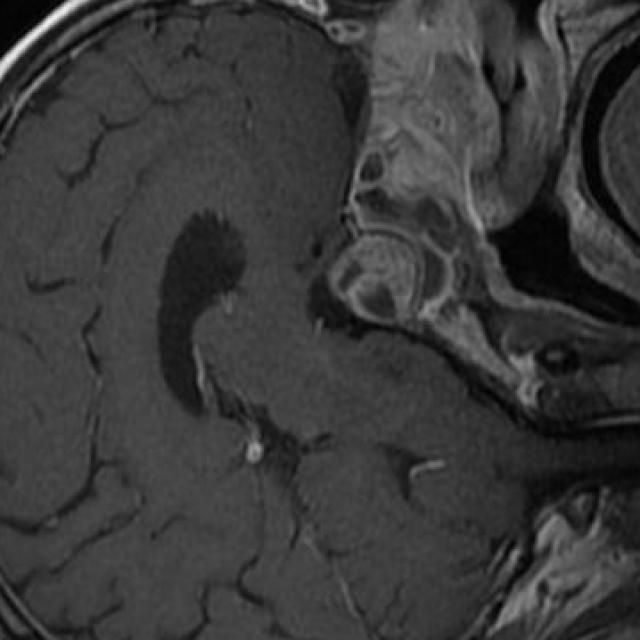pituitary: (328, 234, 424, 326)
